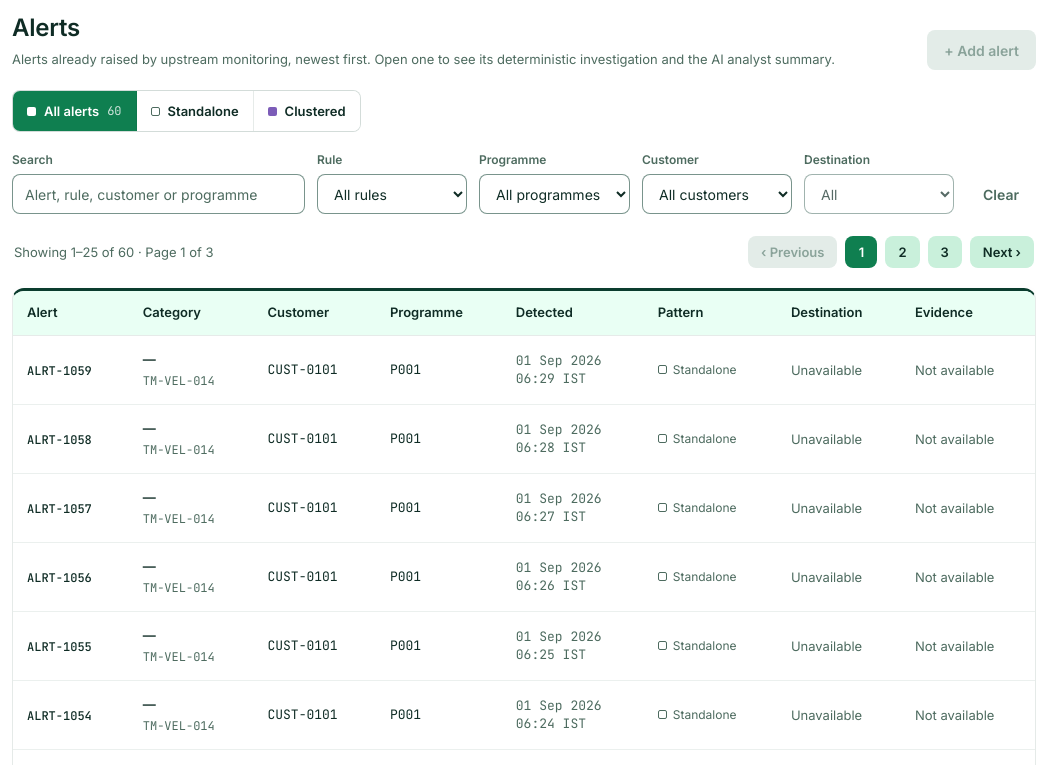
alert queue › search covers every page, not just the visible one
Expected: the text "ALRT-1059" is shown, [27,362,92,378]
Type "ALRT-1002" into the field named "Search alerts" at (158, 194), box [12,174,305,214]
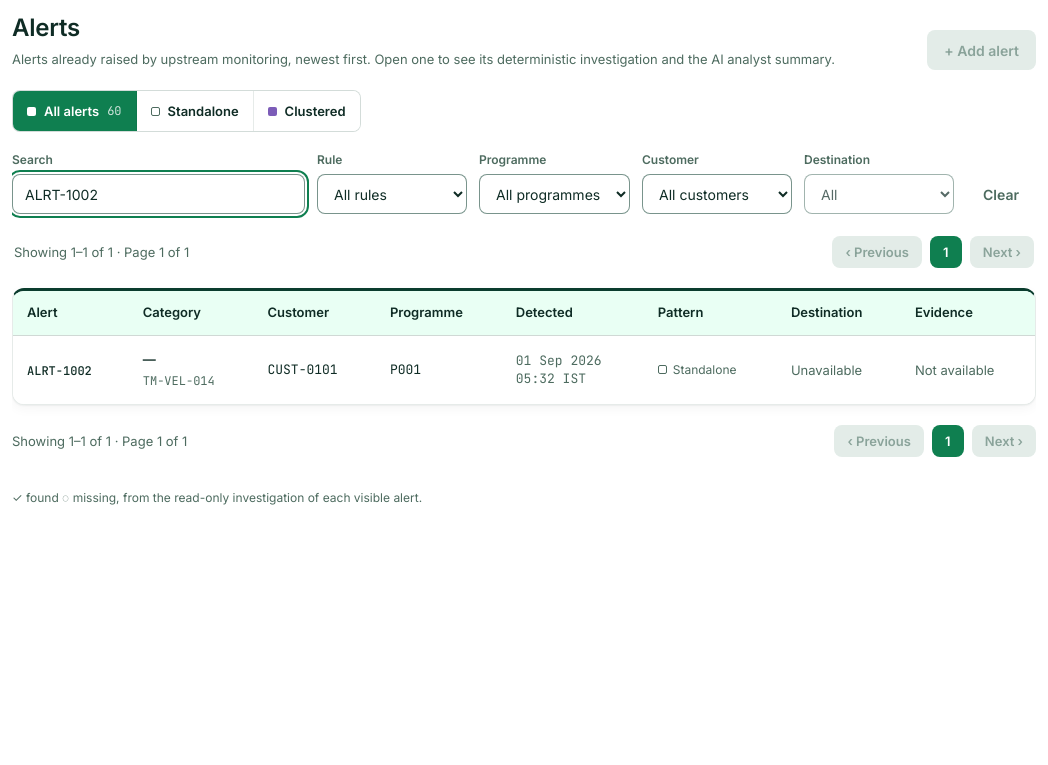
Now the text "ALRT-1002" is shown, box [27,362,92,378]
